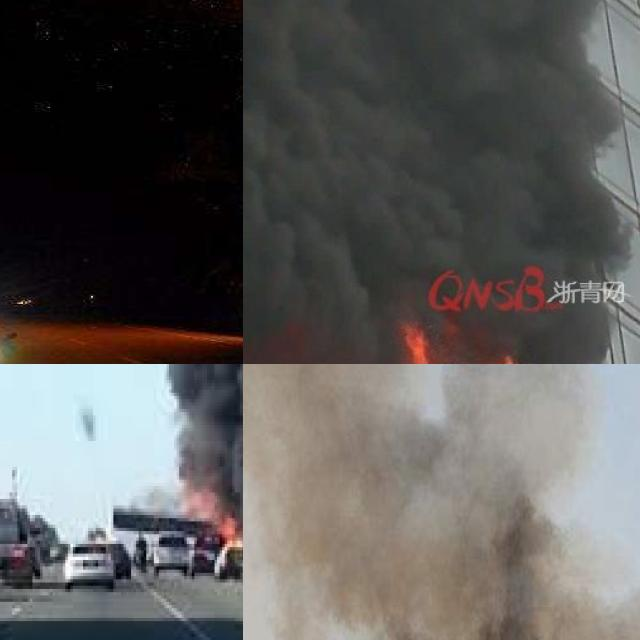fire: (265, 312, 596, 364), (179, 476, 243, 582)
smoke: (243, 0, 630, 364), (243, 364, 640, 640), (136, 364, 243, 512)
